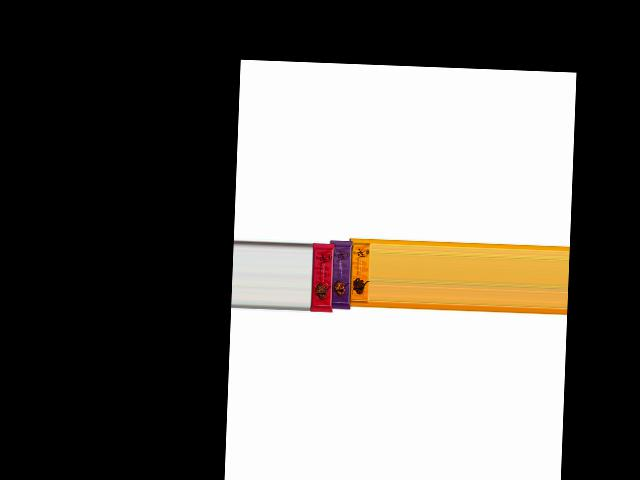chocolate: (309, 239, 334, 316)
